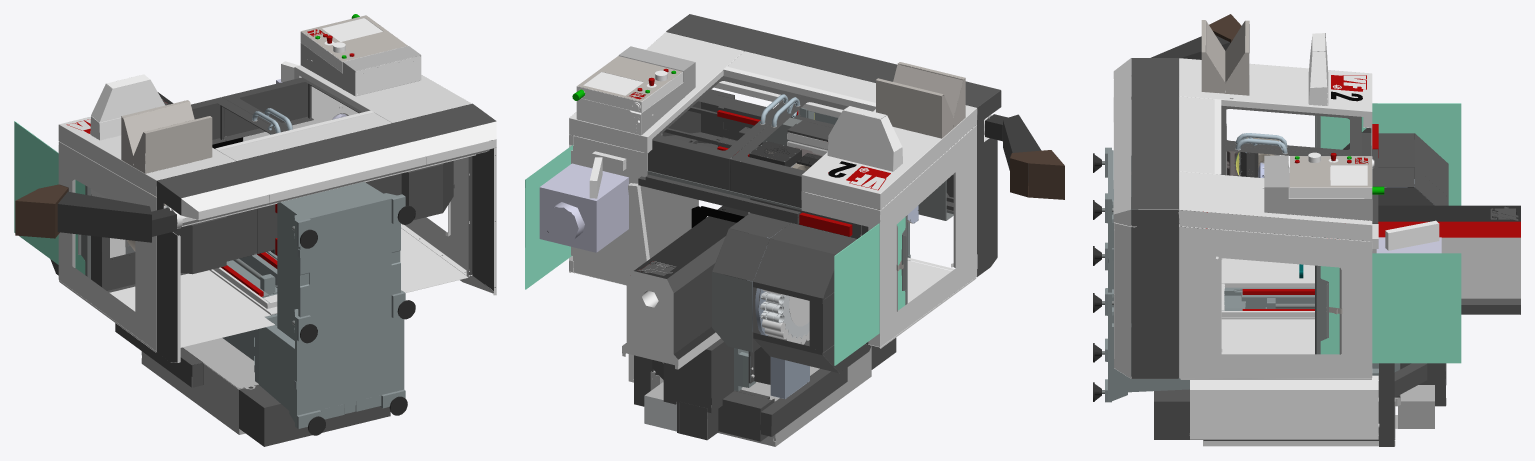
Rendered from vf_2tr_med.glb.
3 views of the same model, side by side, from view 1: azimuth 30°, elevation 25°; view 2: azimuth 150°, elevation 25°; view 3: azimuth 270°, elevation 25° (orthographic).
Parts seen in each view (by area): view 1: 37-4938-DEF, 37-0278-DEF, 37-0059-DEF, 37-0400-DEF-main, CONV-SHELF-VF-SM, ENCLOSURE EXHAUST SYSTEM, 37-0400-SIDE DOORS-main, 10000095056_defeature, 37-2091-DEF-4; view 2: 37-0059-DEF, 37-4938-DEF, 37-0278-DEF, 37-0400-DEF-main, ENCLOSURE EXHAUST SYSTEM, 37-0400-SIDE DOORS-main, CONV-SHELF-VF-SM, 37-2091-DEF-4, 10000095056_defeature, 37-3531-DEF, 37-0400-LEFT DOOR; view 3: 37-4938-DEF, 37-0059-DEF, 37-0400-DEF-main, 37-0400-SIDE DOORS-main, 37-0278-DEF, CONV-SHELF-VF-SM, 37-2091-DEF-4, ENCLOSURE EXHAUST SYSTEM, 37-0400-LEFT DOOR, 10000095056_defeature.
Part boxes in pixels (box(x1,y1,x2,y2)): 37-4938-DEF: box(58, 65, 496, 362); 37-0278-DEF: box(66, 29, 420, 434); 37-0059-DEF: box(50, 77, 496, 446); 37-0400-DEF-main: box(90, 15, 421, 150); CONV-SHELF-VF-SM: box(121, 15, 407, 173); ENCLOSURE EXHAUST SYSTEM: box(57, 79, 348, 242); 37-0400-SIDE DOORS-main: box(14, 121, 85, 274); 10000095056_defeature: box(15, 184, 68, 238); 37-2091-DEF-4: box(125, 92, 415, 435); 37-0059-DEF: box(622, 14, 1001, 441); 37-4938-DEF: box(569, 32, 997, 441); 37-0278-DEF: box(576, 46, 953, 446); 37-0400-DEF-main: box(576, 55, 902, 382); ENCLOSURE EXHAUST SYSTEM: box(539, 114, 1041, 252); 37-0400-SIDE DOORS-main: box(525, 144, 905, 365); CONV-SHELF-VF-SM: box(577, 56, 965, 138); 37-2091-DEF-4: box(634, 206, 809, 431); 10000095056_defeature: box(1010, 150, 1064, 199); 37-3531-DEF: box(747, 234, 809, 398); 37-0400-LEFT DOOR: box(760, 94, 799, 126); 37-4938-DEF: box(1113, 58, 1520, 446); 37-0059-DEF: box(1131, 58, 1520, 446); 37-0400-DEF-main: box(1189, 33, 1439, 439); 37-0400-SIDE DOORS-main: box(1320, 103, 1461, 363); 37-0278-DEF: box(1102, 75, 1520, 439); CONV-SHELF-VF-SM: box(1201, 20, 1371, 187); 37-2091-DEF-4: box(1093, 153, 1520, 401); ENCLOSURE EXHAUST SYSTEM: box(1151, 35, 1441, 253); 37-0400-LEFT DOOR: box(1235, 133, 1287, 153); 10000095056_defeature: box(1209, 14, 1241, 42).
Bounding box in the file's own units: 3.16 × 2.25 × 2.72.
